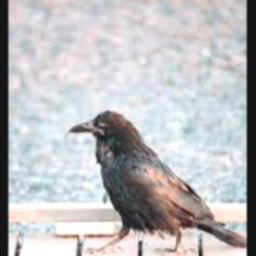Crow: (68, 110, 247, 255)
